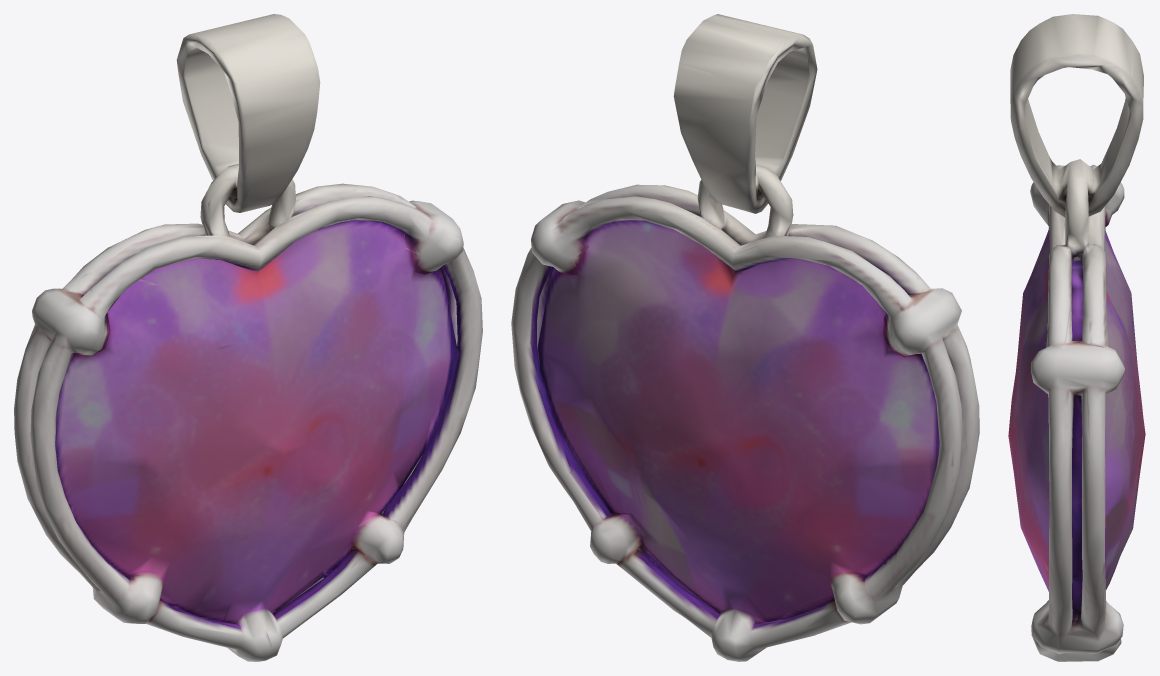
3 views of the same model, side by side, from view 1: azimuth 30°, elevation 25°; view 2: azimuth 150°, elevation 25°; view 3: azimuth 270°, elevation 25° (orthographic).
Visible parts, largest first — view 1: pendant-astral-heart; view 2: pendant-astral-heart; view 3: pendant-astral-heart.
Part boxes in pixels (x1,y1,x2,y2): pendant-astral-heart: (14,14,482,661); pendant-astral-heart: (511,14,979,661); pendant-astral-heart: (1008,14,1145,661).
Bounding box in the file's own units: 0.1515 × 0.2016 × 0.04.
1 material, 1 textured.
